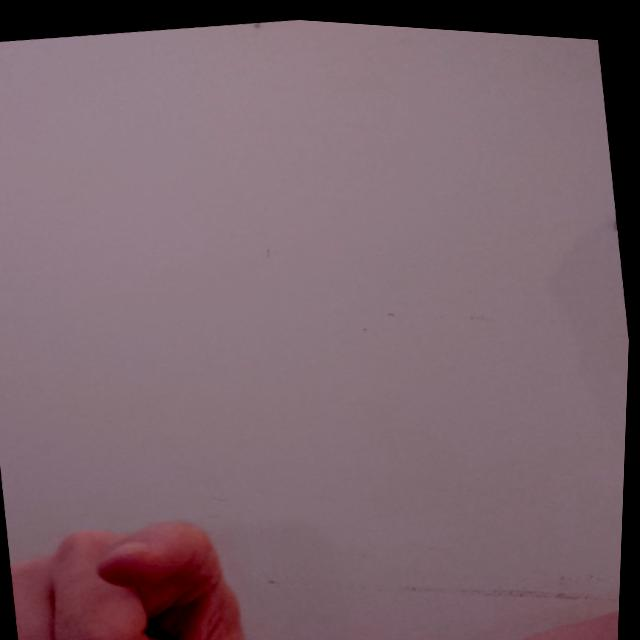Z: (7, 490, 292, 639)
